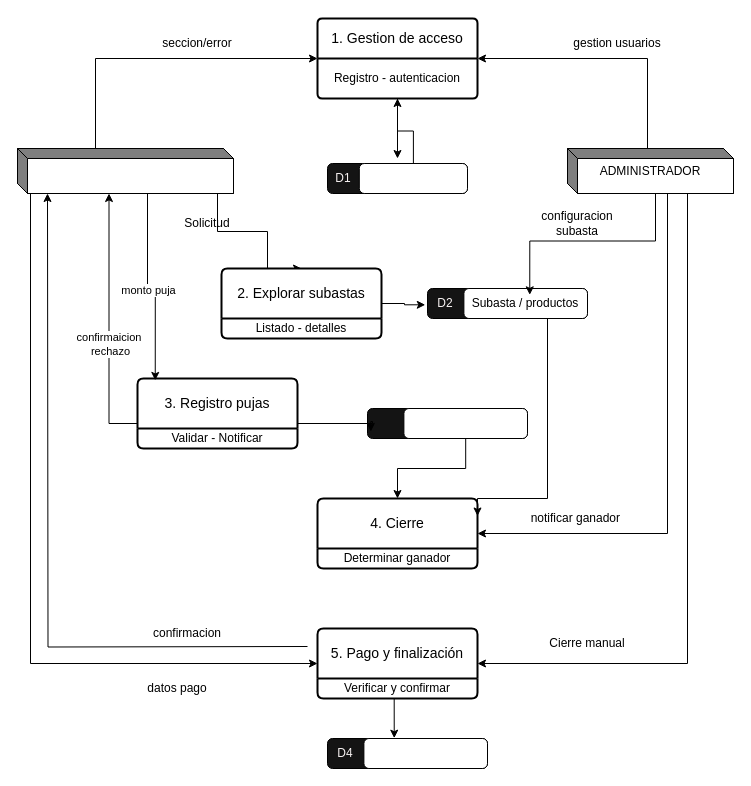
This 751x786 diagram has some shape labels left out. Each missing label, with the centre of its shape:
"D3" belongs at (385,423).
"Ofertas" belongs at (465,423).
"Pagos" belongs at (425,753).
"USUARIO/POSTOR" belongs at (125,171).
"Usuarios" belongs at (413,178).
